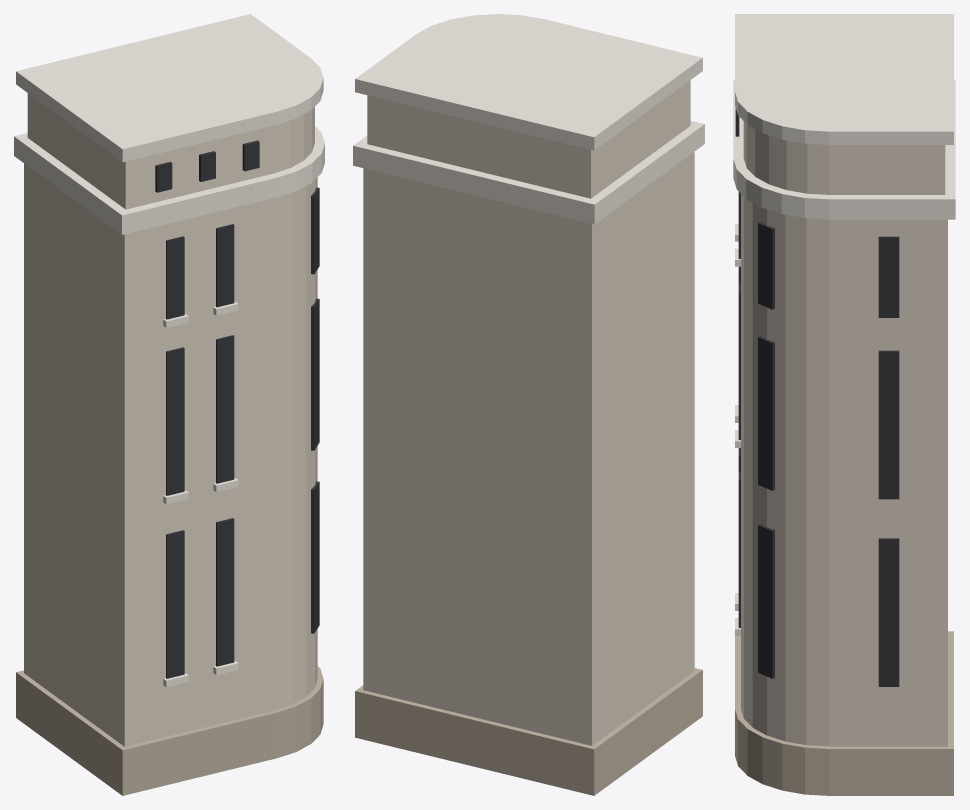
File: fachada_ala_direita.glb
3 views of the same model, side by side, from view 1: azimuth 30°, elevation 25°; view 2: azimuth 150°, elevation 25°; view 3: azimuth 270°, elevation 25° (orthographic). The views are drawn at different scales.
Visible parts, largest first — view 1: fachada_ala_direita; view 2: fachada_ala_direita; view 3: fachada_ala_direita.
Boxes of the visible parts, x1=… form: fachada_ala_direita: x1=14, y1=14, x2=324, y2=795; fachada_ala_direita: x1=353, y1=14, x2=704, y2=795; fachada_ala_direita: x1=733, y1=14, x2=955, y2=795.
Size of the model in its own units: 1.9 by 4.95 by 1.5.
